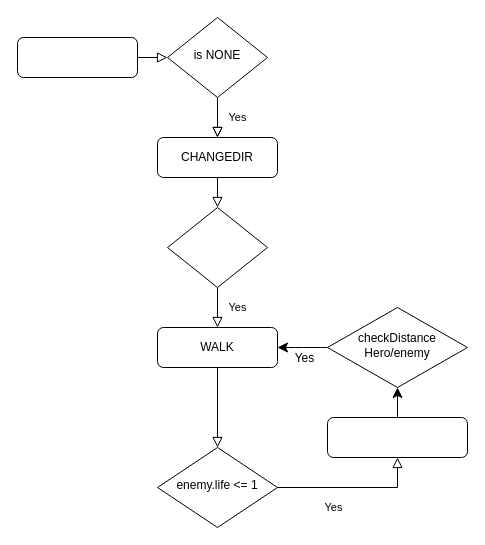
The diagram is 485 pixels wide and 545 high, and some of its shapes have lost their labels. Here are the shapes that lost their labels. From the top down, the centre of each, then its label:
the point at 77,57: NONE
the point at 217,247: direction Change
the point at 397,437: RUNAWAY
